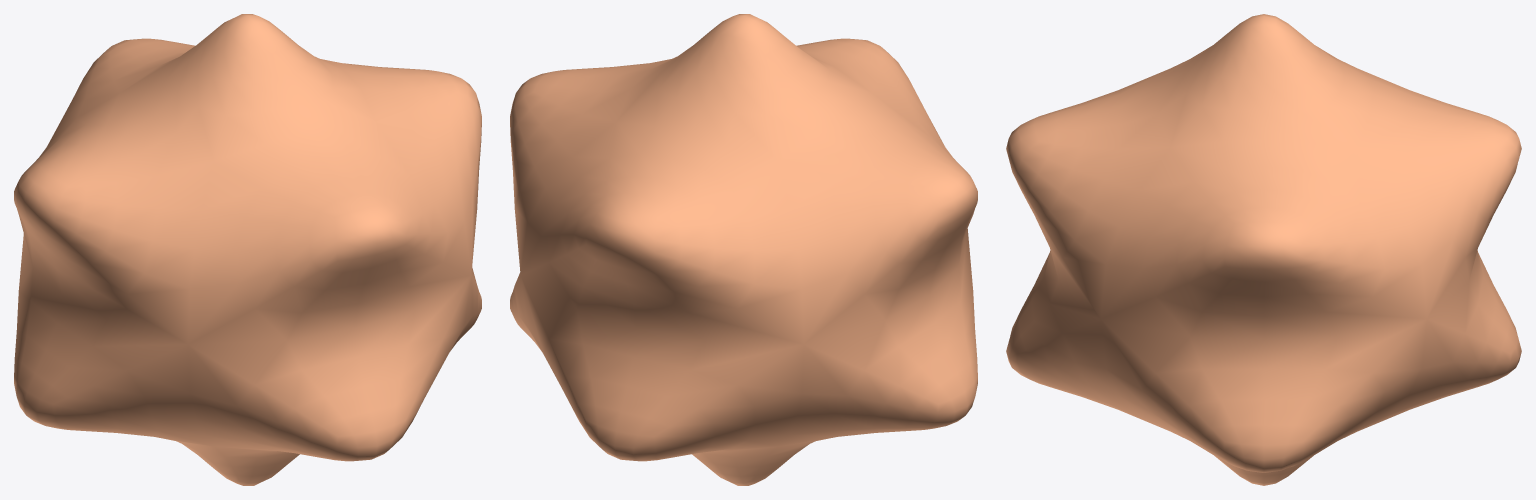
Rendered from StarCandy.fbx.
The picture shows the model from 3 angles, left to right: view 1: azimuth 30°, elevation 25°; view 2: azimuth 150°, elevation 25°; view 3: azimuth 270°, elevation 25°; orthographic projection.
Parts seen in each view (by area): view 1: StarCandy_Original; view 2: StarCandy_Original; view 3: StarCandy_Original.
Boxes of the visible parts, x1,y1,x2,y2 form: StarCandy_Original: (14,14,481,485); StarCandy_Original: (510,14,977,485); StarCandy_Original: (1006,14,1521,485).
Size of the model in its own units: 0.5 by 0.5 by 0.5.
